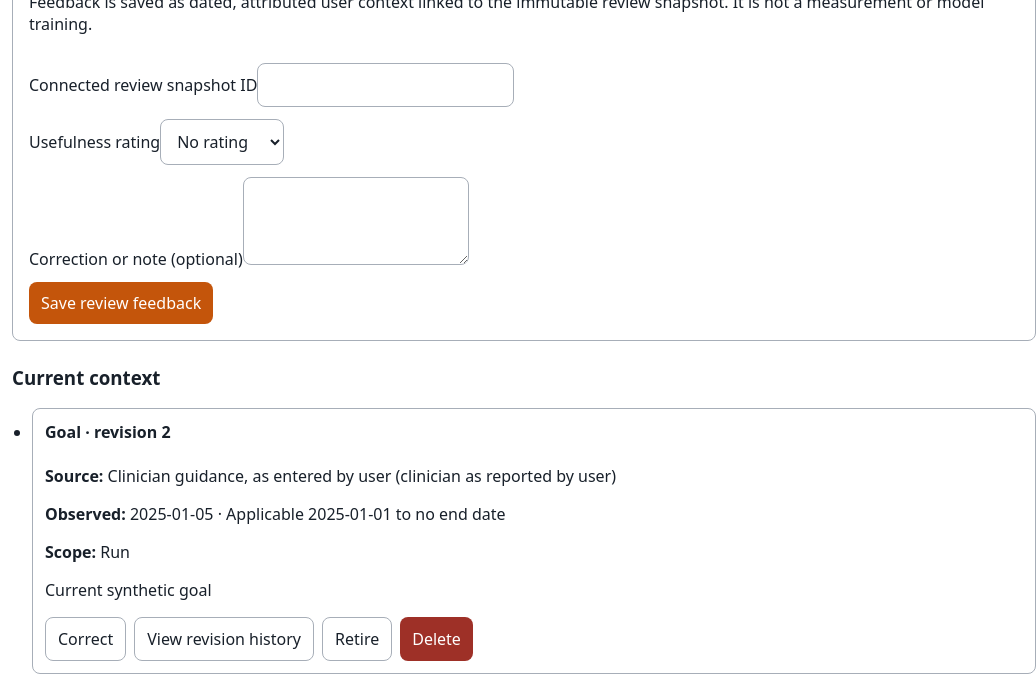
athlete context lifecycle › requires explicit deletion confirmation and explains backup retention
(page scrolled)
Expected: the text "Current synthetic goal" is shown, [45,579,212,601]
Click the button "Delete".
click(437, 639)  # box [400,617,473,661]
(page scrolled)
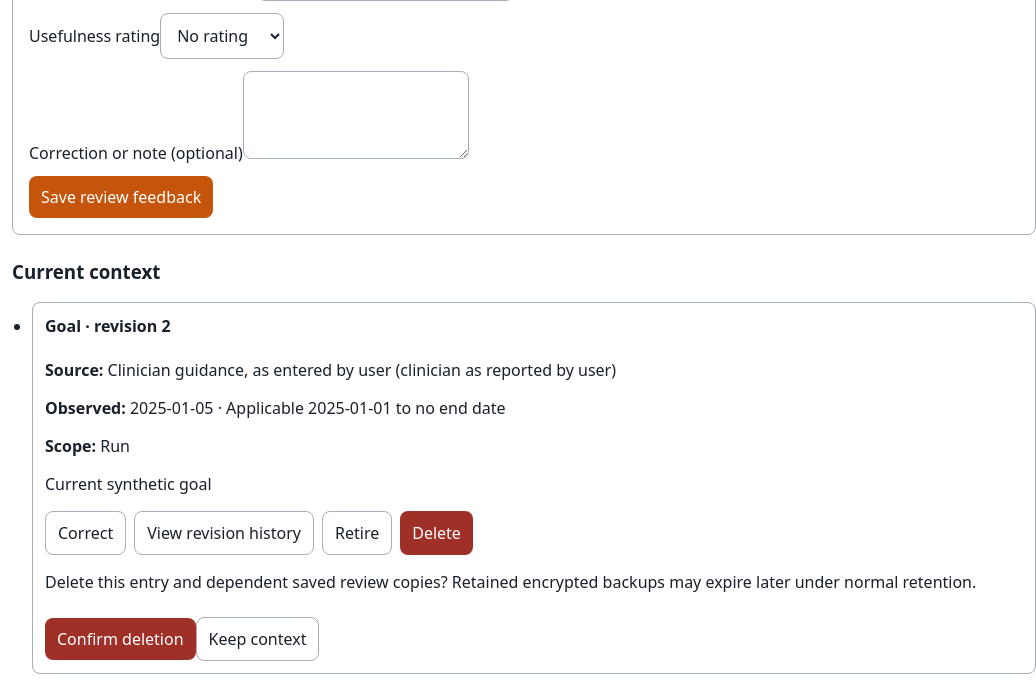
Now the text "Retained encrypted backups may expire later under normal retention" is shown, box [45,571,976,593]
Click the button "Keep context".
click(257, 639)  # box [196,617,319,661]
(page scrolled)
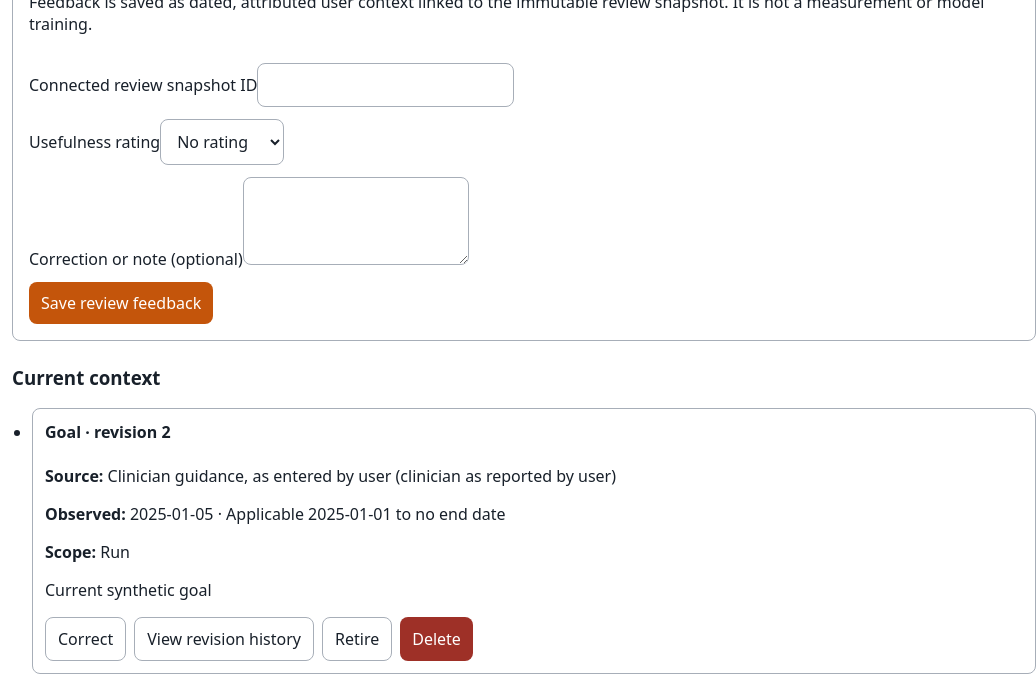
Expected: the text "Current synthetic goal" is shown, [45,579,212,601]
Click the button "Delete".
click(437, 639)  # box [400,617,473,661]
(page scrolled)
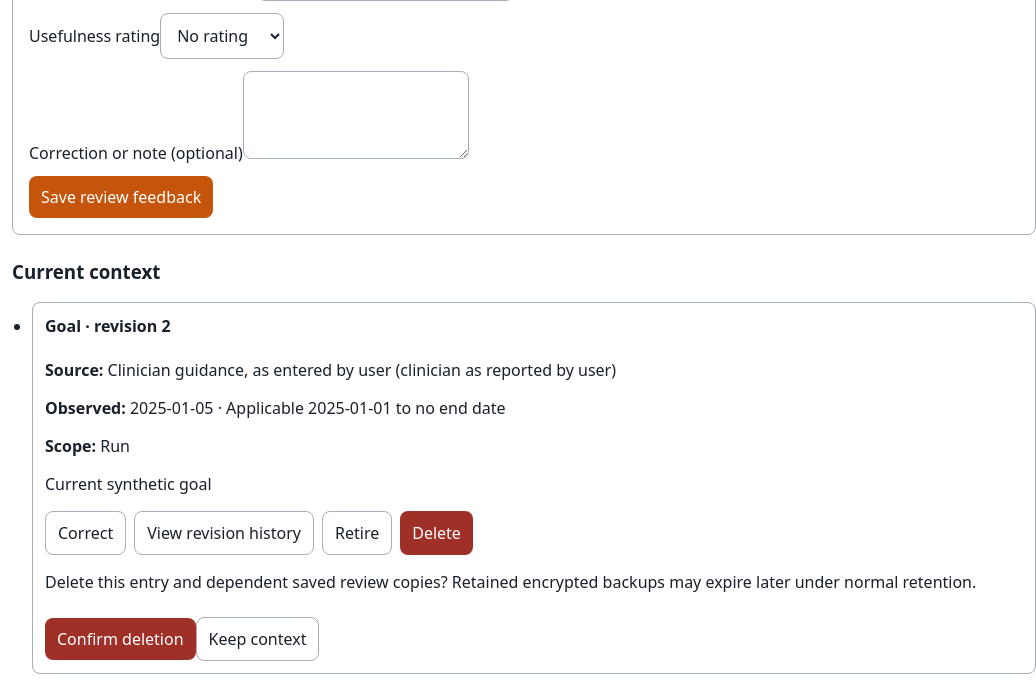
Click the button "Confirm deletion".
click(120, 639)  # box [45,618,196,660]
(page scrolled)
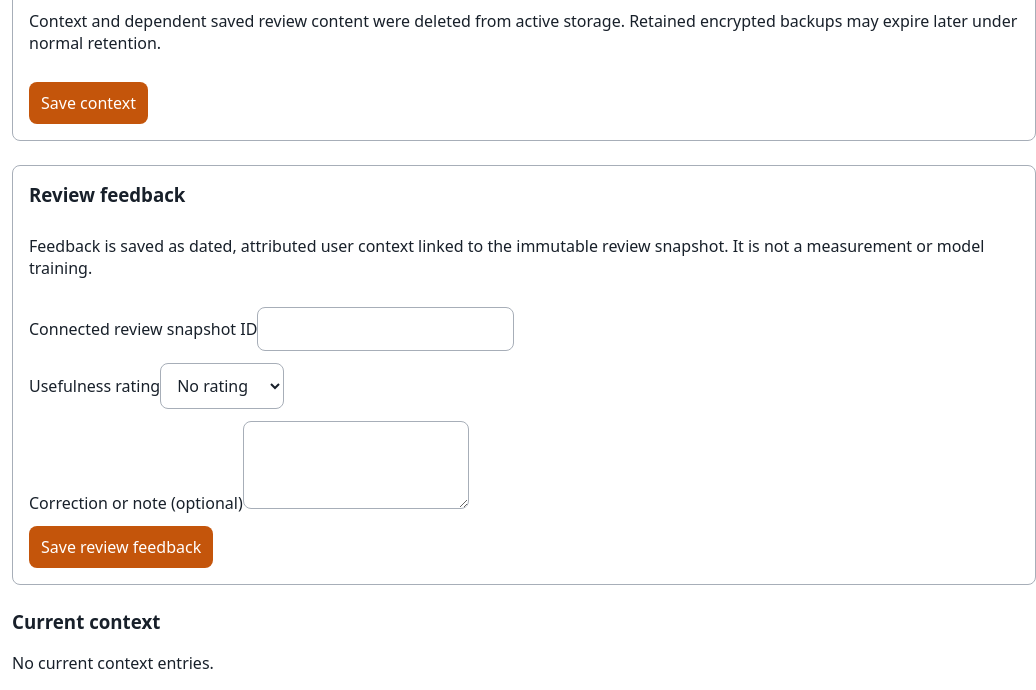
Now the text "deleted from active storage" is shown, box [29,10,1017,54]
Now the text "No current context entries." is shown, box [12,652,214,674]
